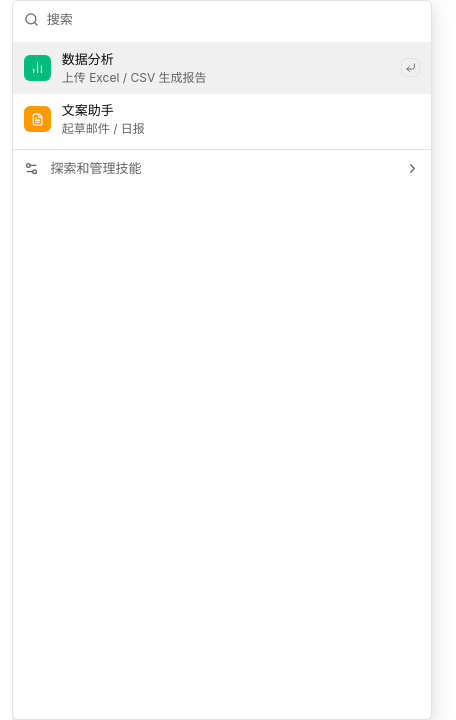
SkillPopoverPanel › shows empty state with no-match hint when query has no matches
In the field with test id "skill-popover-search": (233, 20) [47,10,420,29], type "zzz-nope"
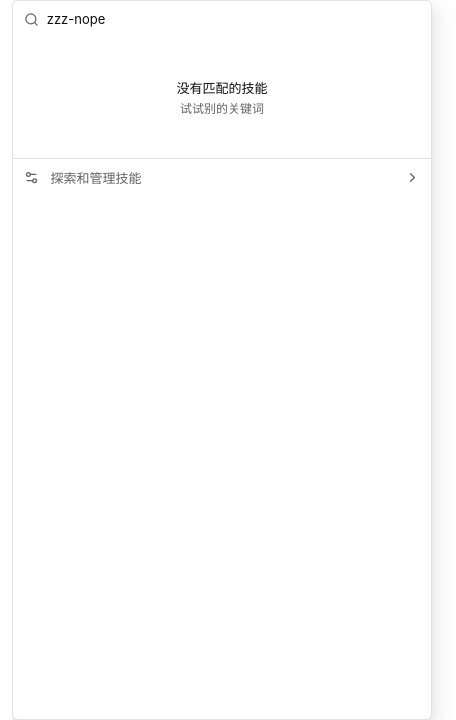
Now the element with test id "skill-popover-empty" is shown, box [176,80,268,116]
Now the text "没有匹配的技能" is shown, box [176,79,268,98]
